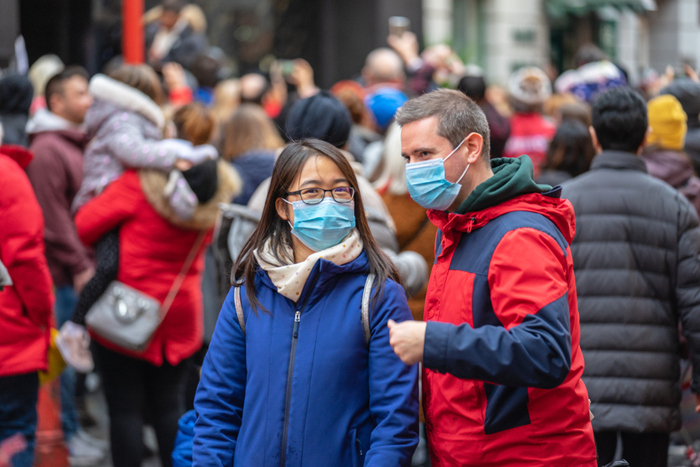with_mask: (292, 177, 357, 241), (402, 148, 467, 211)
